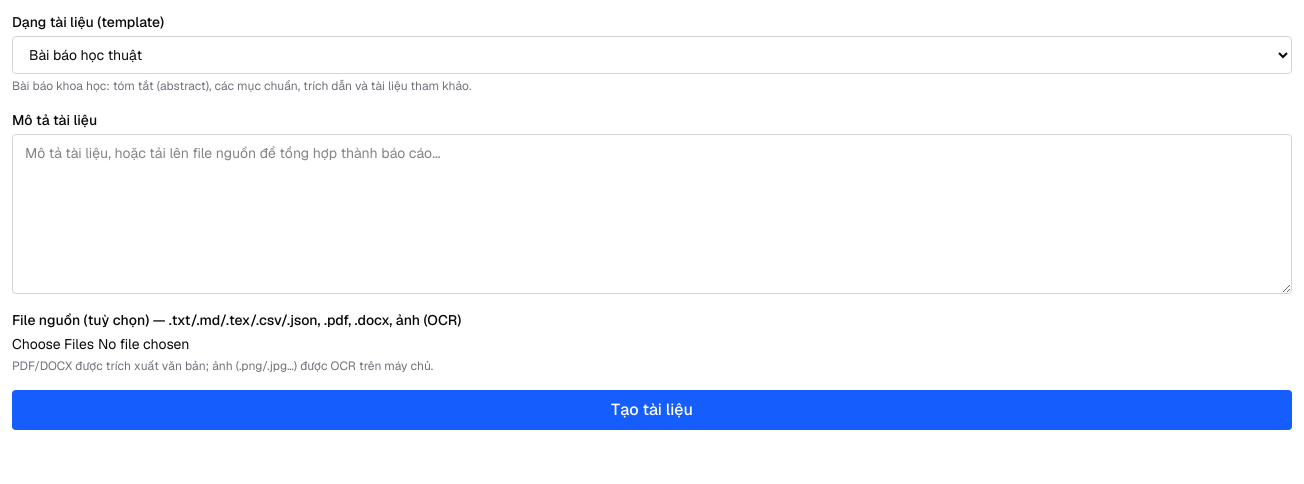
Scenario: GeneratorForm (US3) — validate input & trạng thái › chặn submit khi mô tả rỗng và hiện cảnh báo
What coordinates should you click on to do the following:
click the button "Tạo tài liệu"
I would click on:
 (652, 410)
Its box is x1=12 y1=390 x2=1292 y2=430.
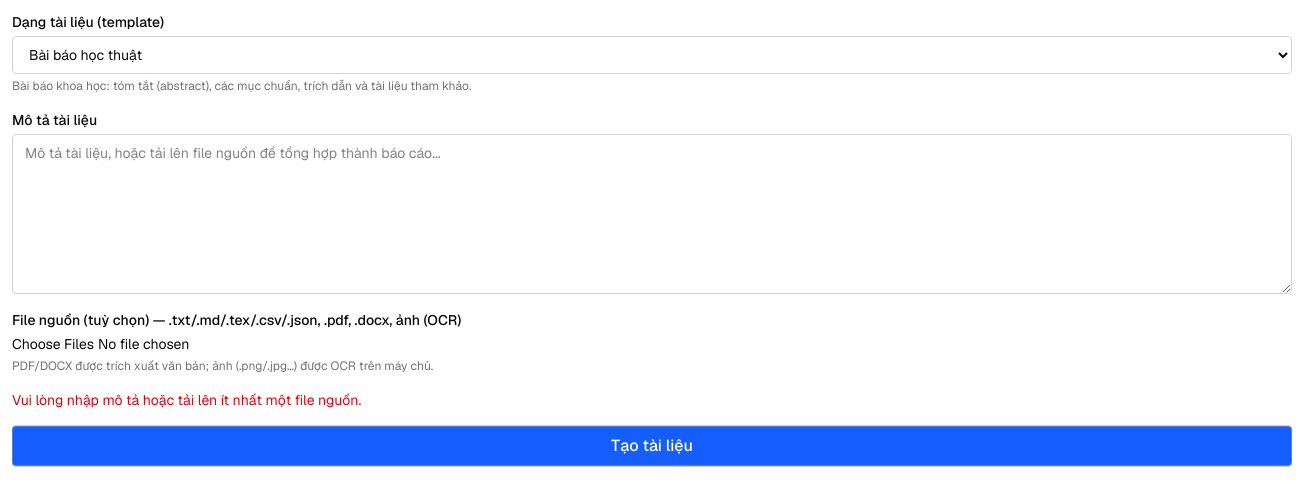
Result: the message shows "nhập mô tả" at x1=12 y1=391 x2=361 y2=409
